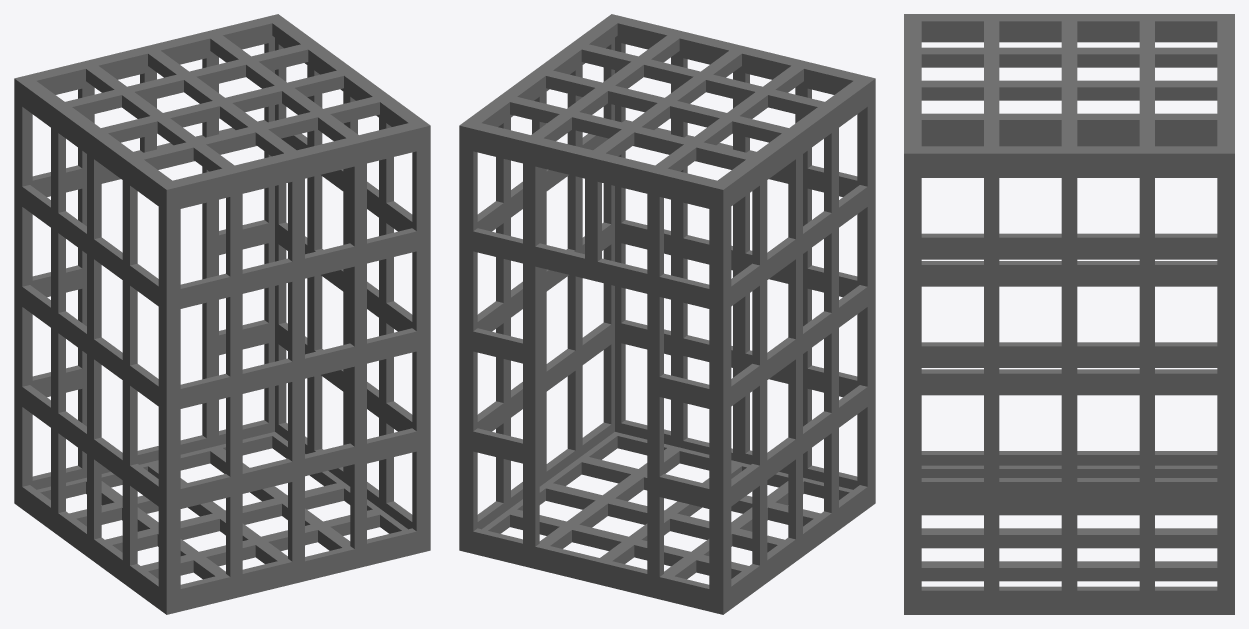
Rendered from LPCP_Cage10.fbx.
3 views of the same model, side by side, from view 1: azimuth 30°, elevation 25°; view 2: azimuth 150°, elevation 25°; view 3: azimuth 270°, elevation 25° (orthographic). The views are drawn at different scales.
Parts seen in each view (by area): view 1: LPCP_Cage10; view 2: LPCP_Cage10; view 3: LPCP_Cage10.
Part boxes in pixels (x1,y1,x2,y2): LPCP_Cage10: (14, 14, 430, 614); LPCP_Cage10: (459, 14, 875, 614); LPCP_Cage10: (904, 14, 1234, 614).
Size of the model in its own units: 4.77 by 7.34 by 4.77.
